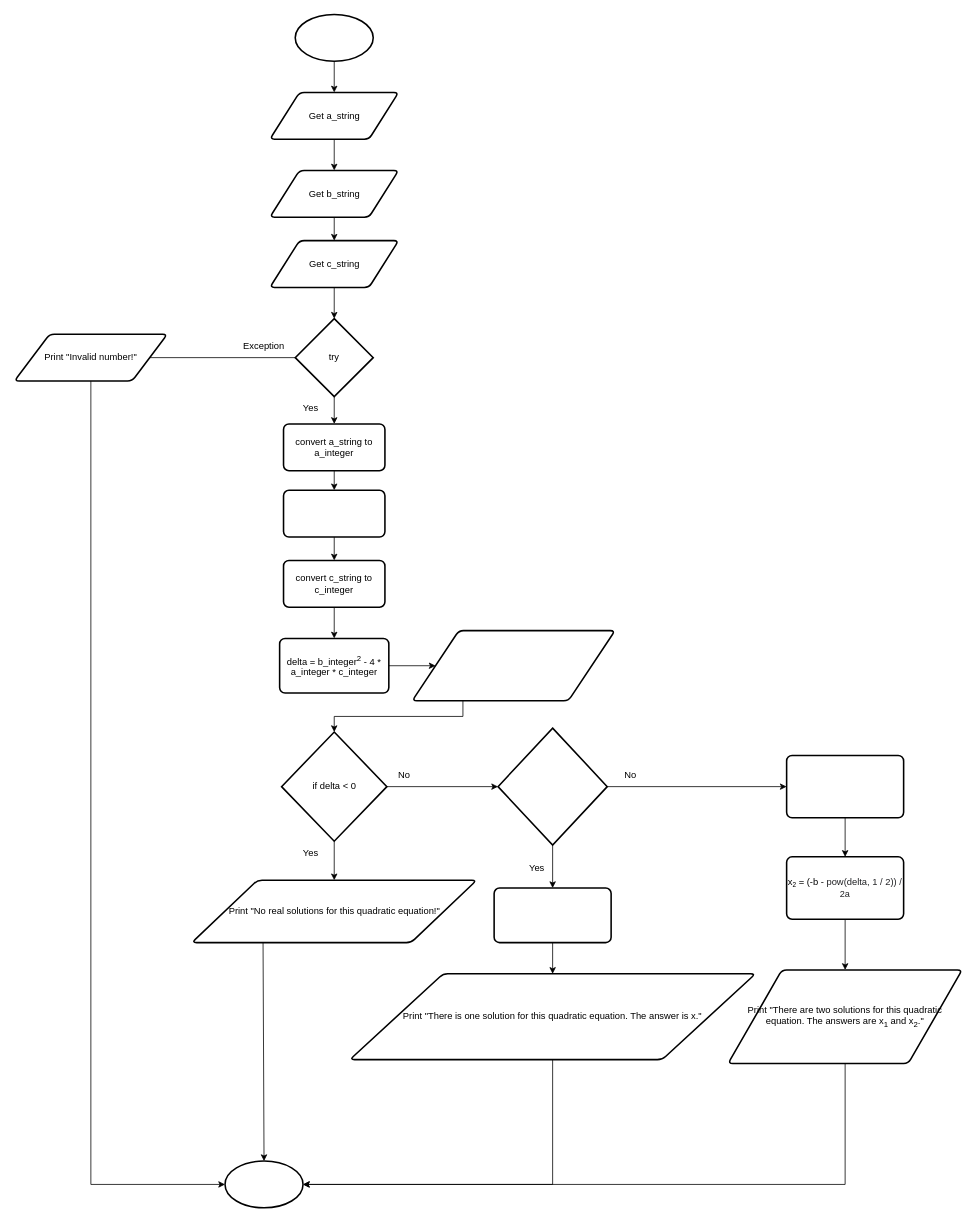
Some shapes in this 976 by 1221 pixel diagram are drawn without their labels. The shapes that lost their labels are listed below. From the top down, each one's box as (x1, y1, x2, y2) in pixels, then its label:
(294, 13, 374, 62): Start
(282, 489, 385, 537): convert b_string to b_integer
(411, 629, 615, 701): Print "The equation is a_integerx 2 +b_integerx+c_integer."
(497, 727, 608, 846): If delta == 0
(785, 754, 904, 818): x 1 = (-b + √b 2 - 4ac) / 2a
(493, 887, 612, 943): x = (-b + pow(delta, 1 / 2) ) / 2a
(224, 1160, 303, 1208): Stop
